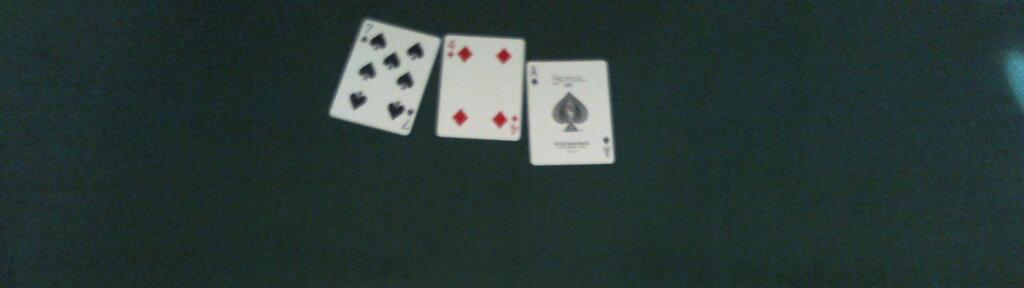ace: (527, 59, 616, 166)
four: (435, 33, 526, 140)
seven: (327, 19, 442, 137)
